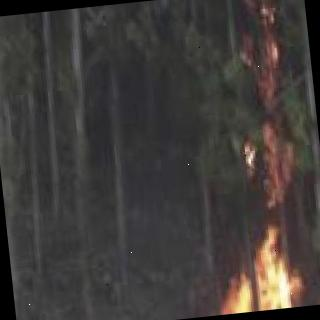fire: (176, 221, 320, 318)
